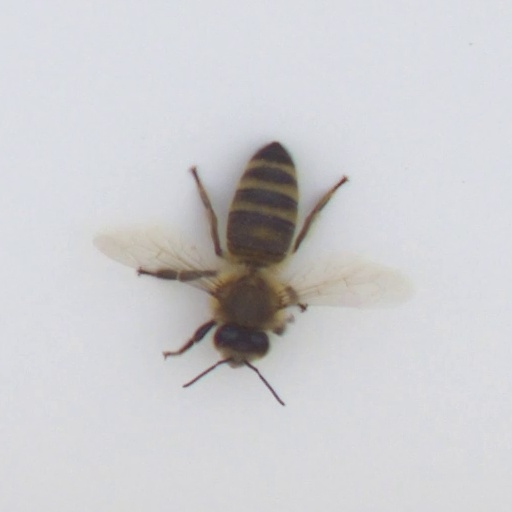Bee: (193, 126, 320, 375)
Thorax: (209, 262, 287, 331)
